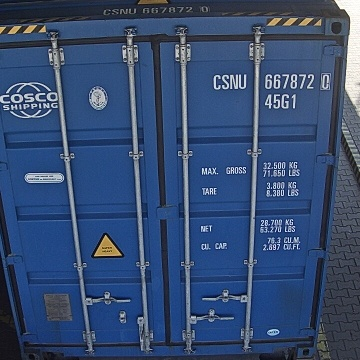serial_id: (212, 73, 330, 89)
